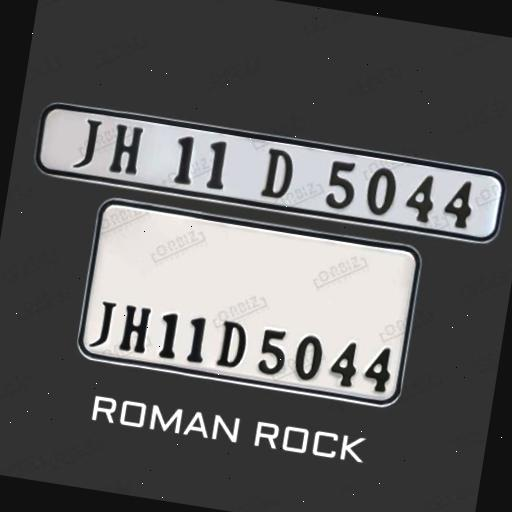number plate: (72, 192, 428, 410), (26, 99, 510, 252)
